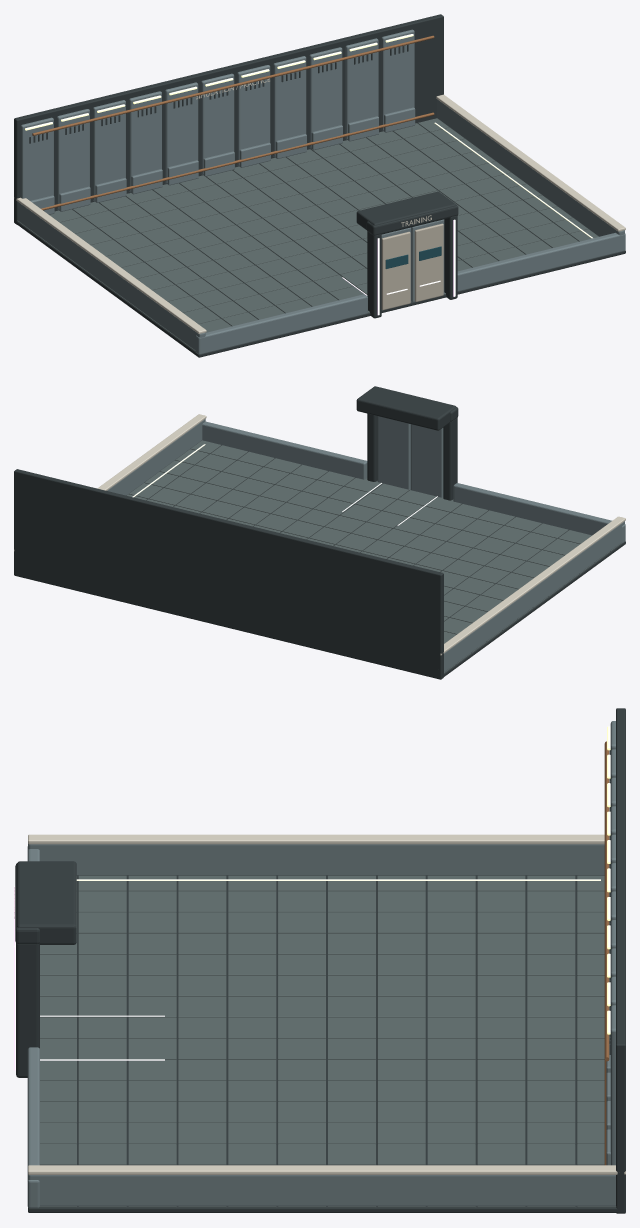
File: gym-shell.glb
3 views of the same model, one above another, from view 1: azimuth 30°, elevation 25°; view 2: azimuth 150°, elevation 25°; view 3: azimuth 270°, elevation 25° (orthographic). The views are drawn at different scales.
Parts seen in each view (by area): view 1: Floor_Floor, InteriorRevealBack_Steel, InteriorRevealRail_Steel, InteriorRevealBack_Graphite, CutawayEntrance_Graphite, Floor_Graphite, InteriorRevealRail_Edge, InteriorRevealBack_Copper, DoorLeft_Ivory, DoorRight_Ivory, InteriorRevealBack_Warm, DoorRight_Steel; view 2: InteriorRevealBack_Graphite, Floor_Floor, InteriorRevealRail_Steel, CutawayEntrance_Graphite, InteriorRevealRail_Edge, DoorLeft_Steel, DoorRight_Steel, Floor_Graphite; view 3: Floor_Floor, InteriorRevealRail_Steel, InteriorRevealRail_Edge, Floor_Graphite, CutawayEntrance_Graphite, InteriorRevealBack_Graphite, InteriorRevealBack_Steel, InteriorRevealBack_Copper, InteriorRevealBack_Warm, Floor_Warm.
Boxes of the visible parts, x1,y1,x2,y2 form: Floor_Floor: (17, 118, 598, 351); InteriorRevealBack_Steel: (21, 29, 415, 214); InteriorRevealRail_Steel: (17, 99, 625, 354); InteriorRevealBack_Graphite: (14, 14, 443, 224); CutawayEntrance_Graphite: (356, 191, 458, 318); Floor_Graphite: (14, 123, 625, 357); InteriorRevealRail_Edge: (14, 94, 625, 333); InteriorRevealBack_Copper: (32, 35, 434, 210); DoorLeft_Ivory: (381, 231, 410, 310); DoorRight_Ivory: (414, 223, 443, 301); InteriorRevealBack_Warm: (25, 34, 413, 130); DoorRight_Steel: (411, 219, 444, 301); InteriorRevealBack_Graphite: (14, 469, 443, 679); Floor_Floor: (127, 440, 621, 673); InteriorRevealRail_Steel: (107, 419, 625, 672); CutawayEntrance_Graphite: (356, 386, 458, 500); InteriorRevealRail_Edge: (14, 414, 625, 655); DoorLeft_Steel: (410, 424, 443, 497); DoorRight_Steel: (377, 416, 410, 489); Floor_Graphite: (146, 446, 625, 678); Floor_Floor: (39, 875, 616, 1207); InteriorRevealRail_Steel: (27, 844, 615, 1208); InteriorRevealRail_Edge: (28, 834, 625, 1174); Floor_Graphite: (28, 876, 625, 1212); CutawayEntrance_Graphite: (15, 861, 76, 1077); InteriorRevealBack_Graphite: (609, 708, 625, 1213); InteriorRevealBack_Steel: (606, 721, 615, 1165); InteriorRevealBack_Copper: (604, 741, 609, 1165); InteriorRevealBack_Warm: (607, 726, 610, 1034); Floor_Warm: (76, 879, 600, 880).
Bounding box in the file's own units: 16 × 3.76 × 12.28.
